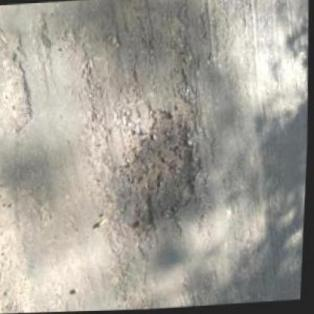Hueco: (120, 107, 205, 229), (0, 55, 38, 130)
